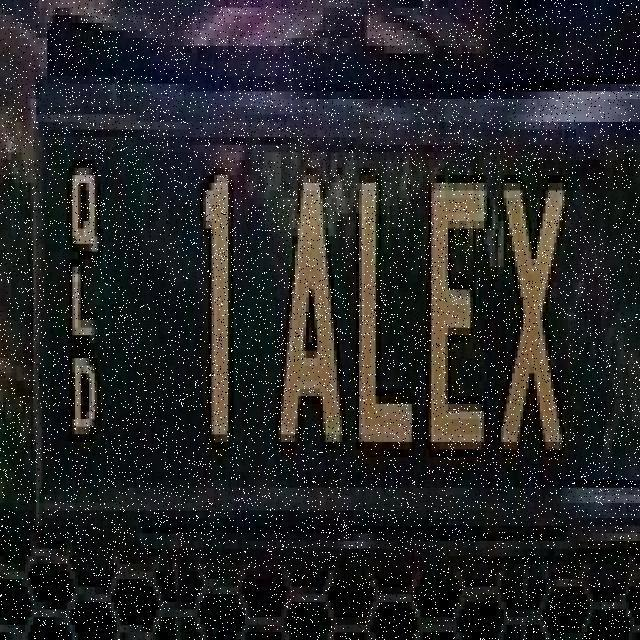LicensePlate: (14, 31, 640, 610)
